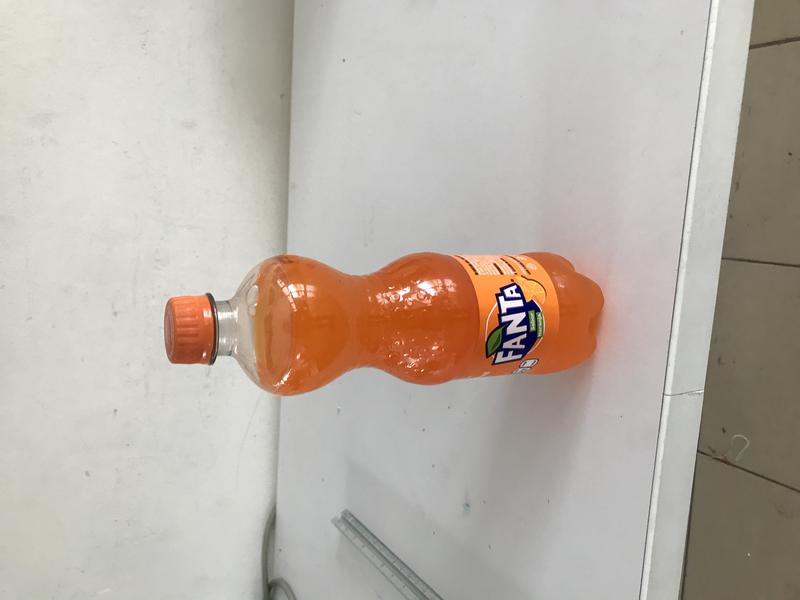fanta: (165, 251, 604, 398)
